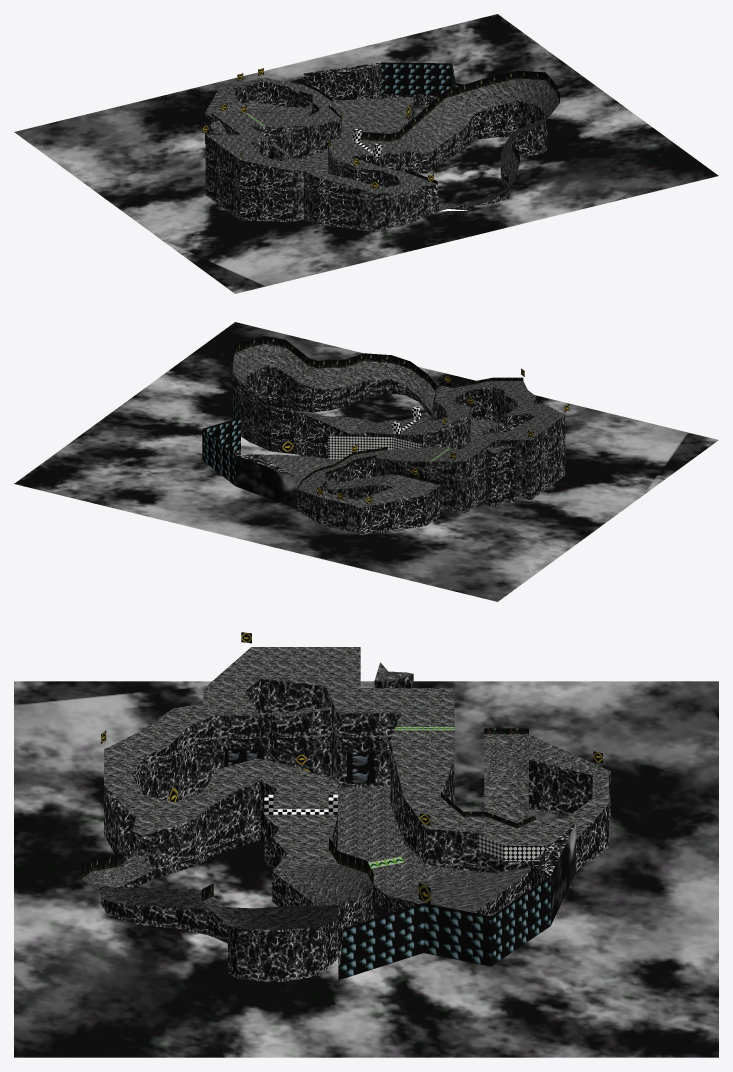
3 views of the same model, one above another, from view 1: azimuth 30°, elevation 25°; view 2: azimuth 150°, elevation 25°; view 3: azimuth 270°, elevation 25° (orthographic). The views are drawn at different scales.
Parts seen in each view (by area): view 1: course-SKP--zfondo.001, course-SKP--muro.002, course-SKP--wpiso0.001, course-SKP--darkfish.001, course-SKP--bardabothsemi.001, course-SKP--flecha.003; view 2: course-SKP--zfondo.001, course-SKP--muro.002, course-SKP--wpiso0.001, course-SKP--bardabothsemi.001, course-SKP--darkfish.001, course-SKP--bubble_.001, course-SKP--flecha.003; view 3: course-SKP--zfondo.001, course-SKP--wpiso0.001, course-SKP--muro.002, course-SKP--darkfish.001, course-SKP--bardabothsemi.001, course-SKP--darkfish0.001, course-SKP--bubble_.001, course-SKP--flecha.003, course-SKP--meta.002.
Boxes of the visible parts, x1,y1,x2,y2 form: course-SKP--zfondo.001: [14, 14, 718, 293]; course-SKP--muro.002: [205, 62, 547, 232]; course-SKP--wpiso0.001: [205, 78, 559, 210]; course-SKP--darkfish.001: [381, 62, 463, 94]; course-SKP--bardabothsemi.001: [299, 70, 559, 184]; course-SKP--flecha.003: [202, 68, 433, 188]; course-SKP--zfondo.001: [14, 322, 718, 601]; course-SKP--muro.002: [232, 366, 565, 535]; course-SKP--wpiso0.001: [232, 344, 564, 507]; course-SKP--bardabothsemi.001: [232, 336, 523, 488]; course-SKP--darkfish.001: [202, 391, 240, 485]; course-SKP--bubble_.001: [328, 436, 421, 459]; course-SKP--flecha.003: [282, 368, 569, 503]; course-SKP--zfondo.001: [14, 681, 718, 1057]; course-SKP--wpiso0.001: [82, 647, 610, 929]; course-SKP--muro.002: [100, 674, 610, 981]; course-SKP--darkfish.001: [338, 876, 550, 980]; course-SKP--bardabothsemi.001: [82, 728, 535, 901]; course-SKP--darkfish0.001: [224, 749, 374, 783]; course-SKP--bubble_.001: [477, 833, 544, 860]; course-SKP--flecha.003: [101, 632, 602, 904]; course-SKP--meta.002: [264, 794, 337, 814].
Bounding box in the file's own units: 96559 × 15188 × 76482.
Materials: 11 (10 with a texture image).
